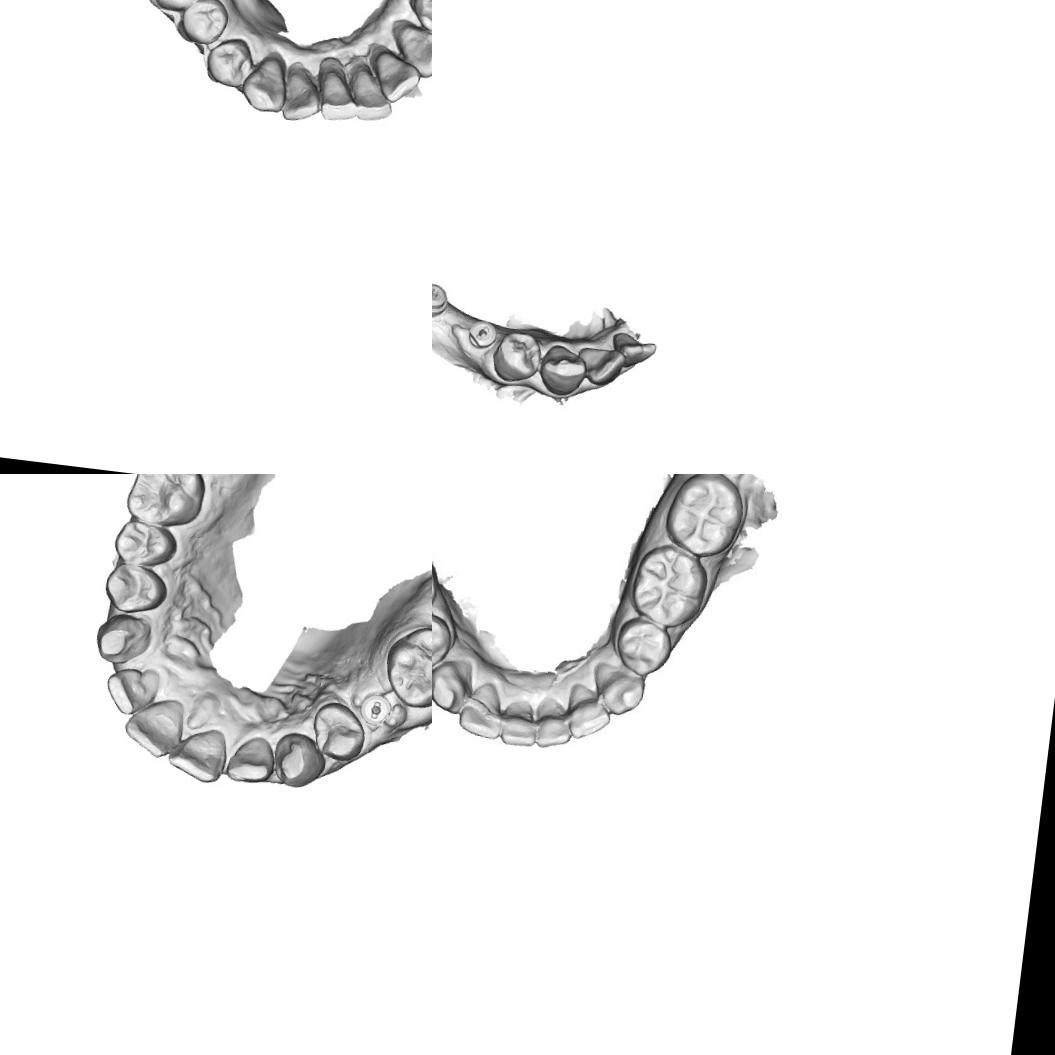canine: (92, 608, 156, 670), (268, 728, 328, 792), (588, 659, 649, 718), (238, 50, 290, 114), (536, 342, 590, 398), (386, 16, 432, 81), (432, 657, 469, 718)
implant_minus: (355, 688, 396, 732), (466, 318, 498, 351), (432, 280, 450, 319)
incisor: (119, 692, 190, 762), (162, 722, 232, 787), (342, 54, 398, 123), (101, 663, 164, 720), (454, 682, 510, 746), (312, 54, 363, 124), (278, 60, 327, 124), (223, 732, 279, 788), (564, 686, 615, 744), (373, 51, 424, 105), (532, 692, 579, 749), (572, 345, 628, 389), (497, 700, 540, 756), (606, 330, 659, 370)
molar: (659, 474, 752, 559), (630, 544, 706, 630), (121, 474, 210, 532), (378, 619, 432, 714)
premolar: (306, 697, 370, 768), (100, 558, 172, 620), (110, 513, 182, 572), (617, 618, 673, 680), (489, 328, 545, 385), (204, 34, 256, 89), (177, 0, 231, 47), (432, 607, 455, 672), (405, 0, 432, 37)
